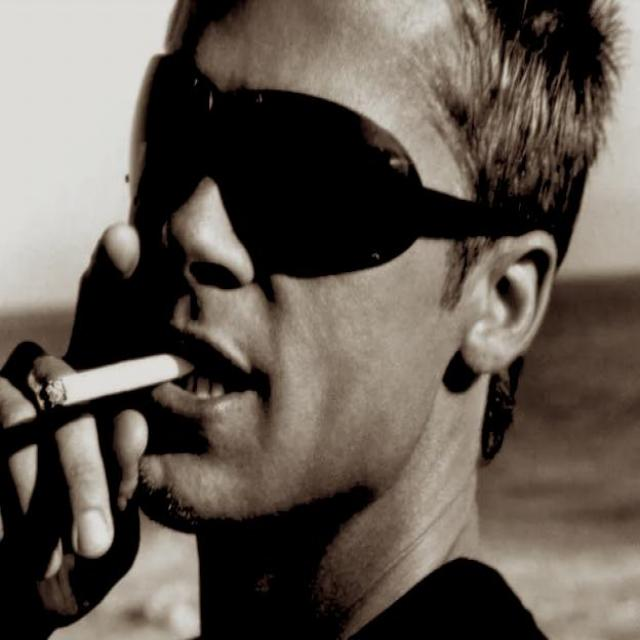smoke: (0, 284, 240, 560)
